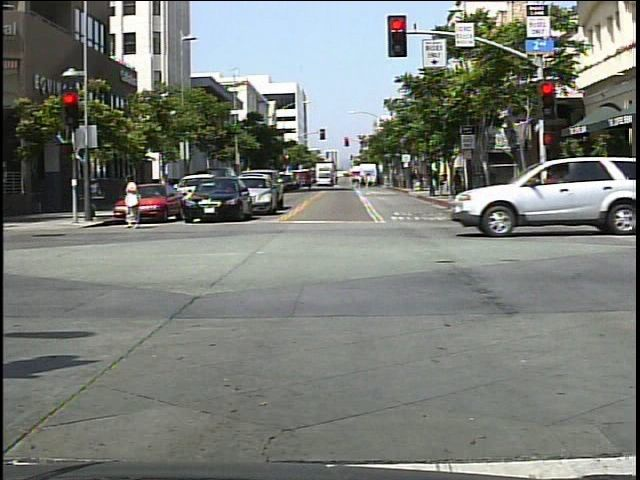person: (531, 169, 565, 230), (119, 169, 150, 233), (549, 160, 571, 211)
